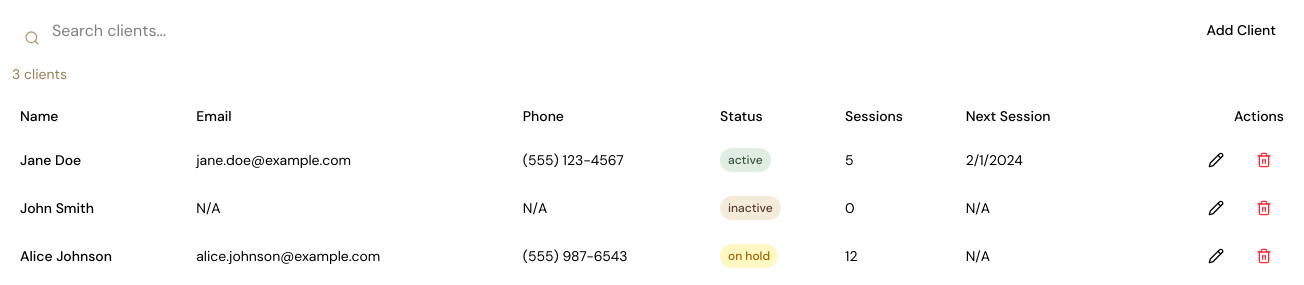
Test case: PatientTable › Empty State › shows no results message when search returns empty
This screenshot has width=1304, height=285.
Check: the text "Jane Doe" is shown, box [12,136,188,184]
Type "NonexistentName" into the field with placeholder "Search clients...". click: (236, 30)
box: [12,12,460,48]
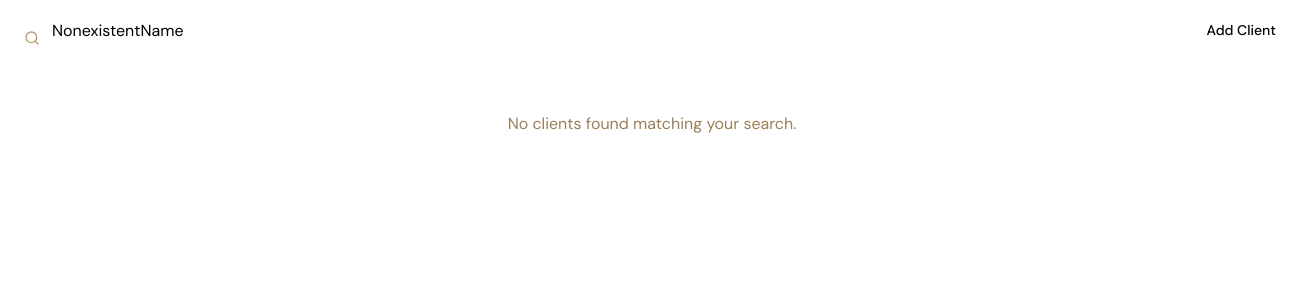
Check: the text "No clients found matching your search." is shown, box [508,113,796,134]
